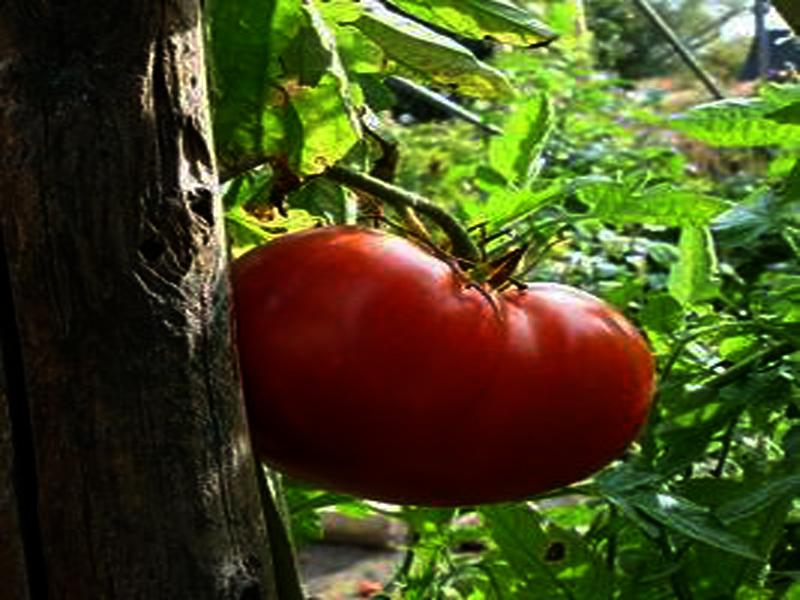Tomato: (225, 225, 656, 503)
